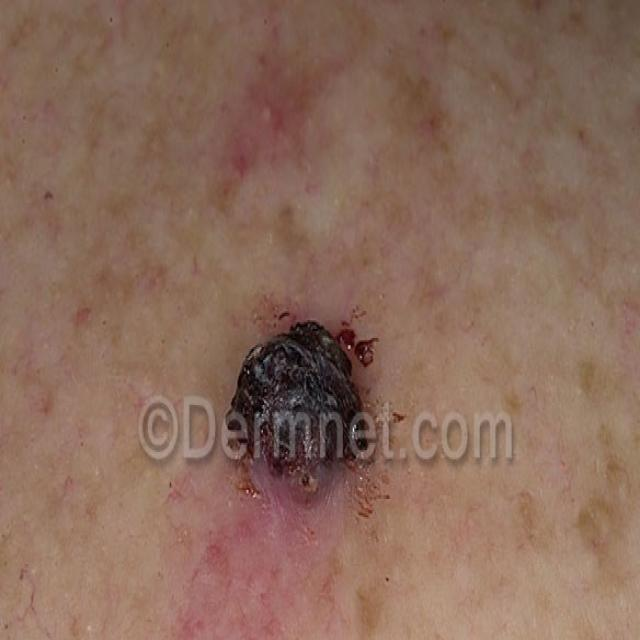Vascular Tumors: (202, 284, 413, 534)
